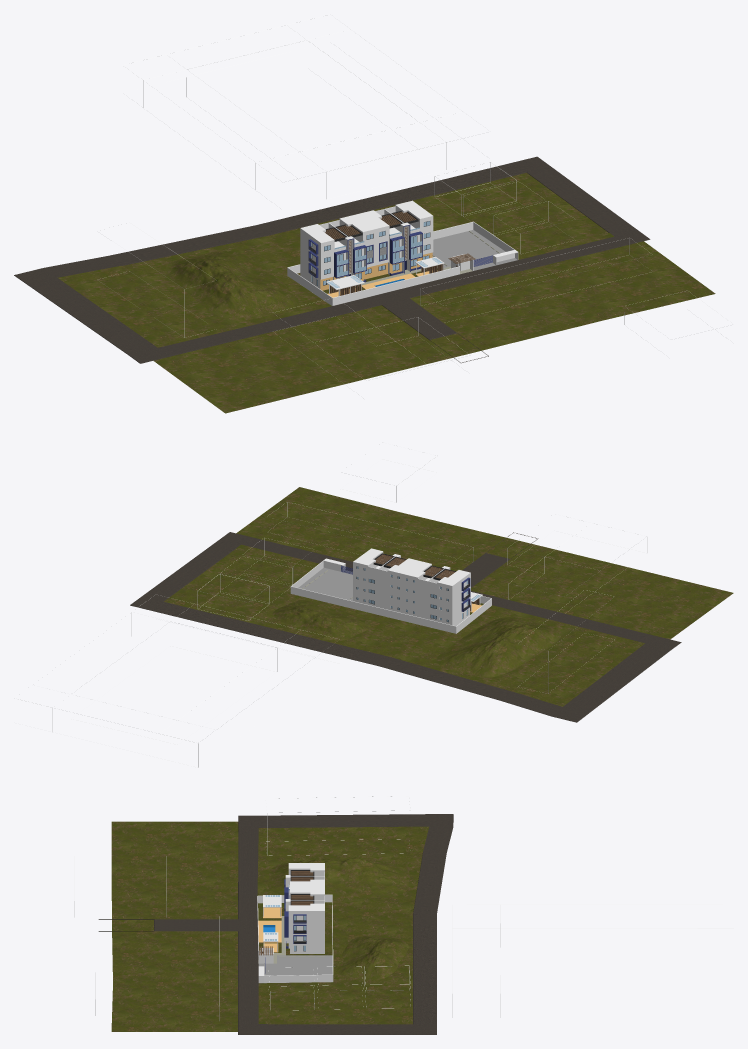
The model's file is exterior.glb.
3 renders of one model, top to bottom at view 1: azimuth 30°, elevation 25°; view 2: azimuth 150°, elevation 25°; view 3: azimuth 270°, elevation 25°, orthographic. The views are drawn at different scales.
Parts seen in each view (by area): view 1: Plane.004, Cube.001, Landscape.008, Plane.008, Plane.001, Cube.010, Plane.005; view 2: Plane.004, Cube.001, Landscape.008, Cube.010, Landscape.007, Plane.008, Plane.001, Plane.005; view 3: Plane.004, Cube.001, Landscape.008, Landscape.007, Plane.008, Plane.005, Cube.010, Plane.001, Cube.250, Plane.003.
Part boxes in pixels (<box>): Plane.004: <box>57,173,715,413</box>; Cube.001: <box>14,156,650,363</box>; Landscape.008: <box>166,251,298,320</box>; Plane.008: <box>300,200,433,255</box>; Plane.001: <box>287,221,514,305</box>; Cube.010: <box>300,228,433,290</box>; Plane.005: <box>432,230,517,270</box>; Plane.004: <box>164,487,733,706</box>; Cube.001: <box>130,532,681,722</box>; Landscape.008: <box>436,617,561,677</box>; Cube.010: <box>353,573,470,625</box>; Landscape.007: <box>272,600,370,640</box>; Plane.008: <box>353,548,470,596</box>; Plane.001: <box>290,560,491,633</box>; Plane.005: <box>298,567,352,601</box>; Plane.004: <box>111,821,428,1031</box>; Cube.001: <box>154,814,453,1034</box>; Landscape.008: <box>268,858,409,897</box>; Landscape.007: <box>337,936,408,979</box>; Plane.008: <box>288,863,324,921</box>; Plane.005: <box>258,955,332,983</box>; Cube.010: <box>288,892,324,953</box>; Plane.001: <box>257,894,333,983</box>; Cube.250: <box>452,904,733,1017</box>; Plane.003: <box>258,920,281,942</box>.
Size of the model in its own units: 134 by 12.71 by 185.
Materials: 13 (3 with a texture image).
